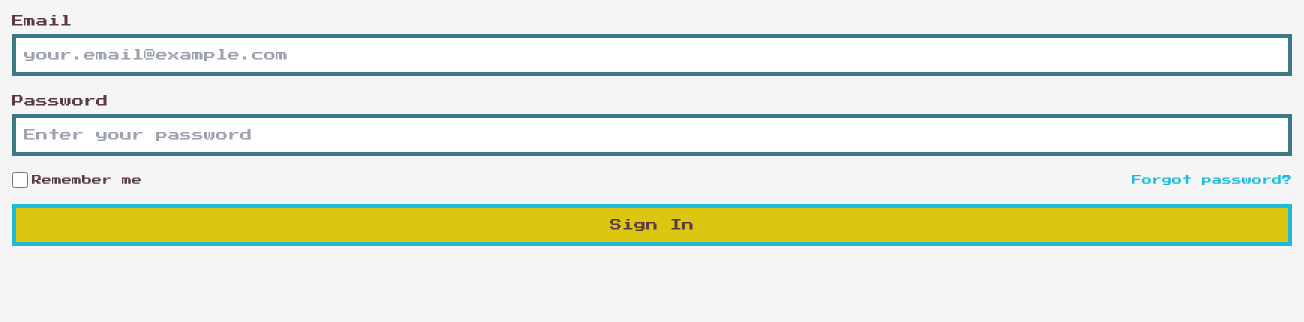
LoginForm › clears submit error when user makes any change
This screenshot has width=1304, height=322.
Note: Fill form and submit to trigger error
Type "test@example.com" into the field labelled "Email" at [652, 55], box [12,34,1292,76]
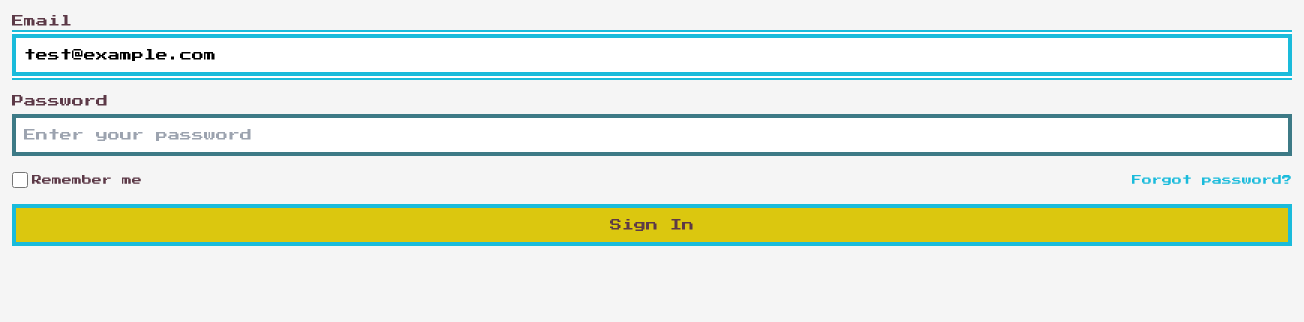
Type "password123" into the password field with placeholder "Enter your password" at [652, 135], box [12,114,1292,156]
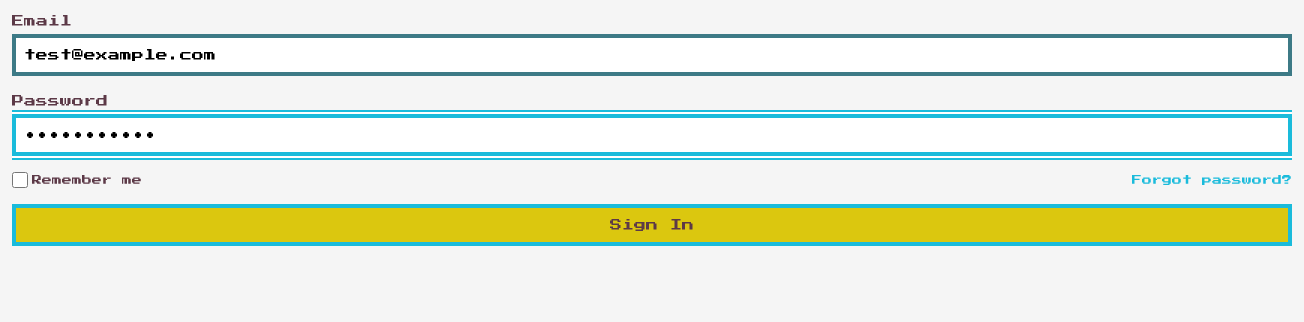
Click the button "Sign In" at [652, 225], box [12,204,1292,246]
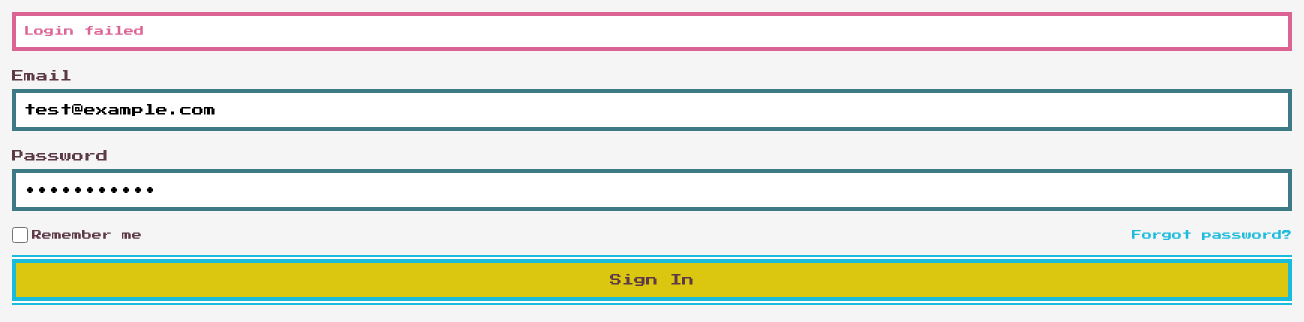
expect the text "Login failed" is shown: met, box [24,26,144,36]
Note: Make a change to any field
Type "x" into the field labelled "Email" at [652, 110], box [12,89,1292,131]
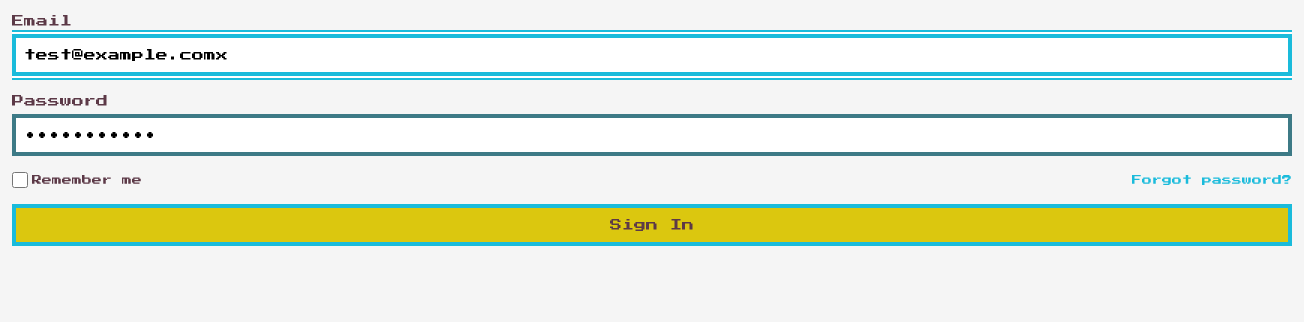
expect the text "Login failed" is gone: met
